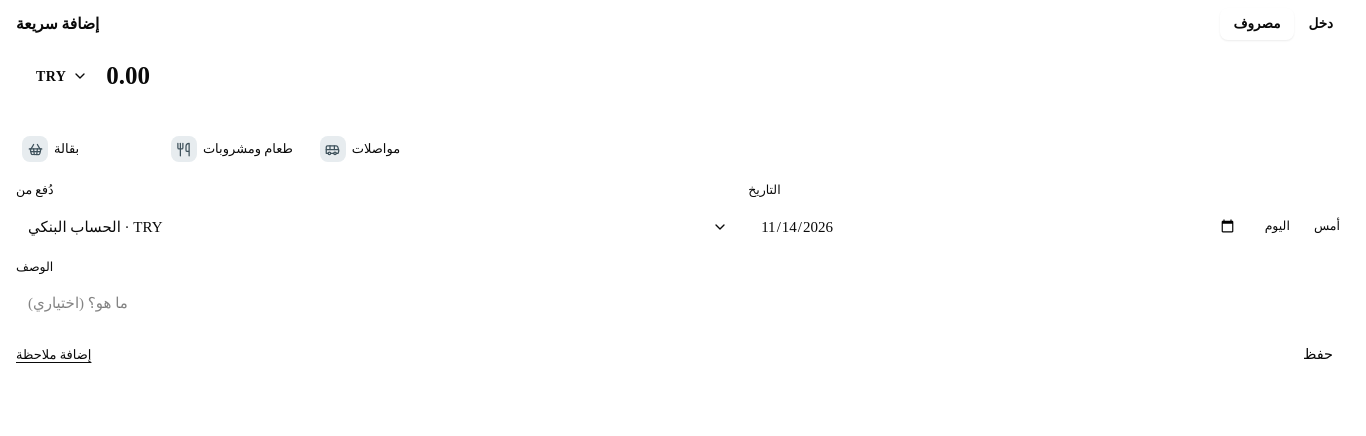
Test case: Quick Add validation › shows the server's reason in the reader's language, never its raw text
In the field named "المبلغ": (723, 76) [106,56,1340,96], type "12"
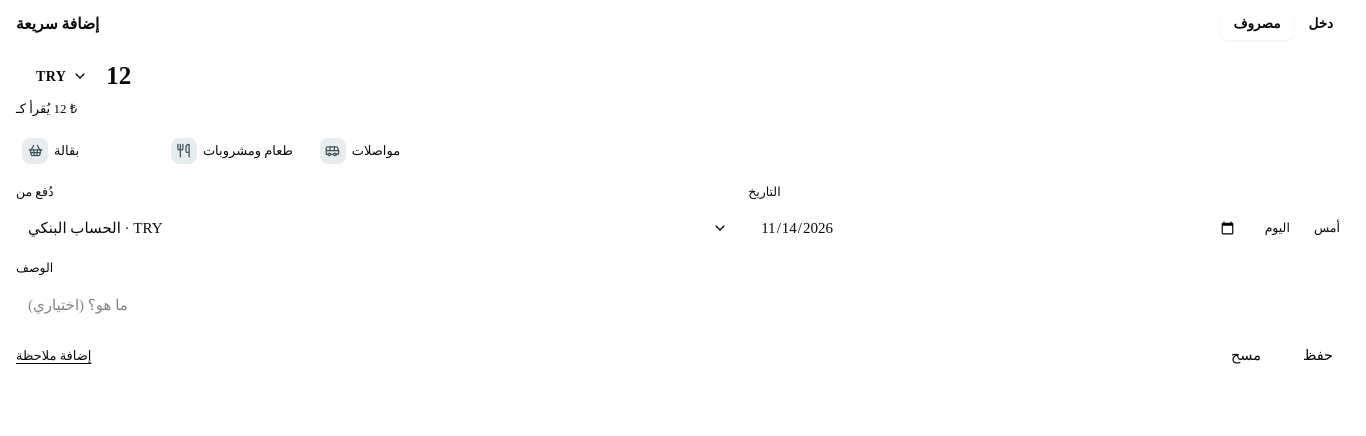
Click the button "حفظ": click(1318, 356) [1286,336,1350,376]
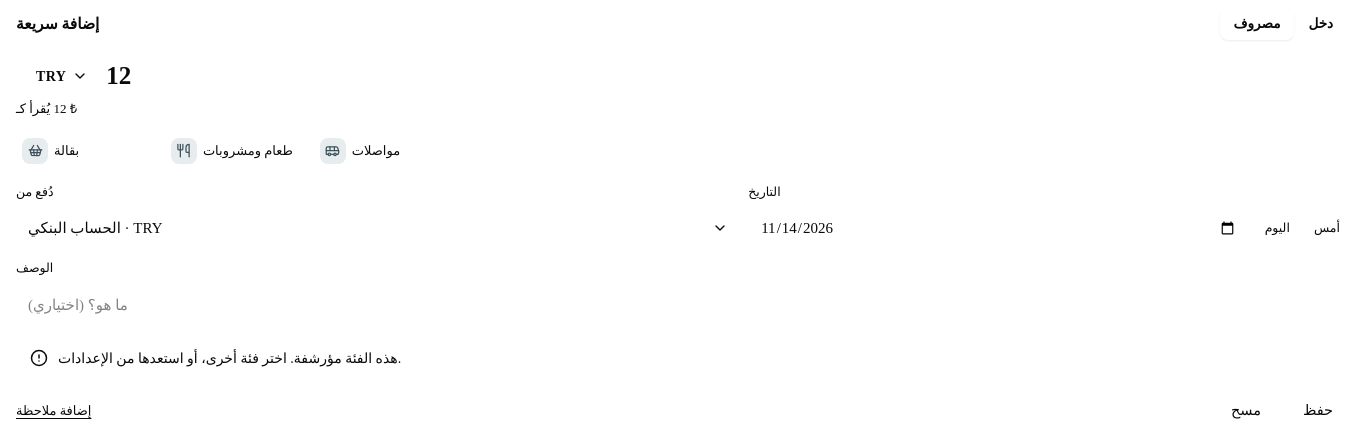
Expected: the message reads "هذه الفئة مؤرشفة. اختر فئة أخرى، أو استعدها من الإعدادات.", [58,351,401,366]
